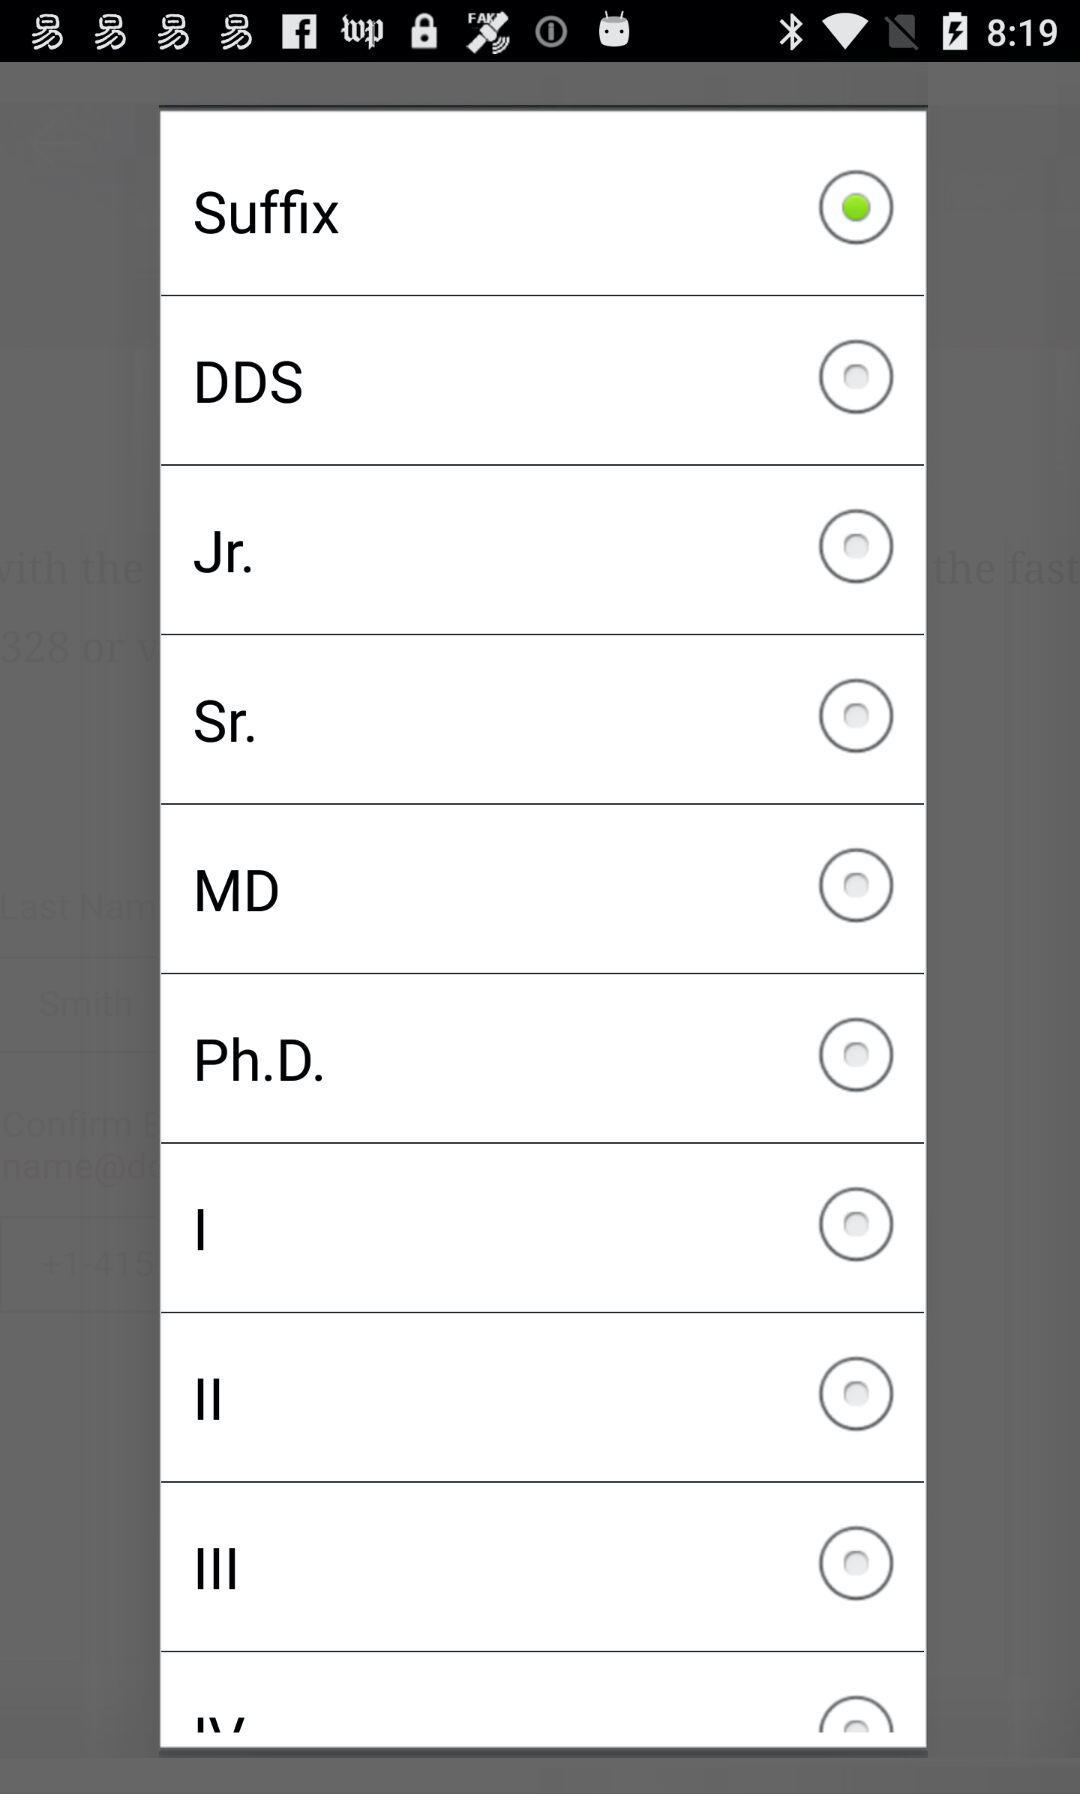CheckedTextView: (199, 1354, 894, 1433), (193, 509, 896, 584), (197, 340, 894, 415), (199, 1187, 893, 1262), (193, 679, 894, 753), (195, 170, 894, 245), (197, 848, 894, 923), (197, 1017, 894, 1092), (199, 1526, 894, 1601)
Modal: (156, 108, 930, 1750)
Text: (195, 188, 340, 235), (197, 1037, 323, 1082), (197, 361, 304, 405), (197, 869, 279, 912), (193, 698, 255, 743), (193, 531, 252, 574), (199, 1548, 237, 1590), (199, 1378, 222, 1421), (199, 1716, 246, 1732), (199, 1208, 205, 1251)
UpperTaskBar: (1, 1, 1080, 64)
